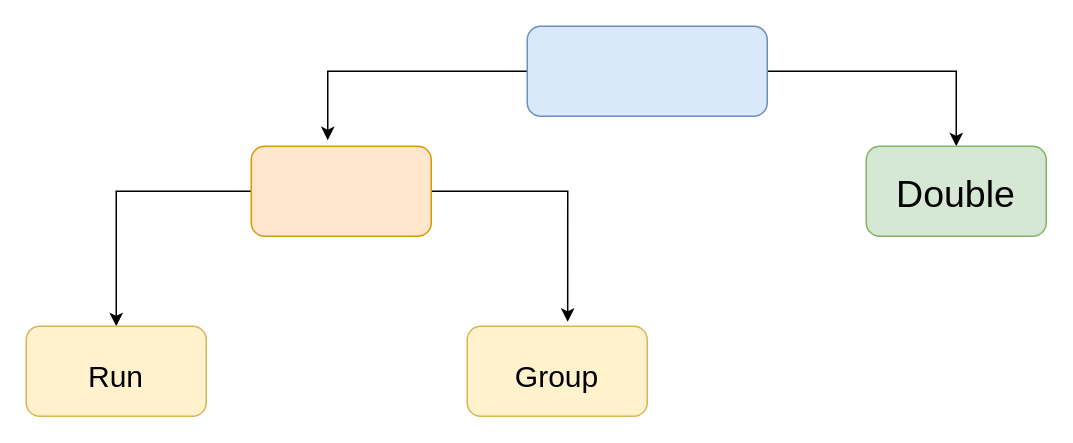
The diagram is 1073 pixels wide and 443 high, and some of its shapes have lost their labels. The centre of each missing label's shape, as x and y in pixels:
"Normal" belongs at point 340,190.
"Set" belongs at point 646,70.
